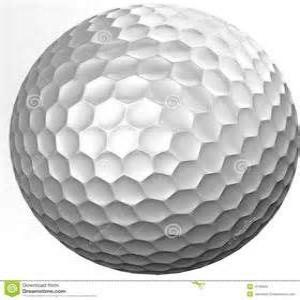Golf: (7, 2, 300, 276)
